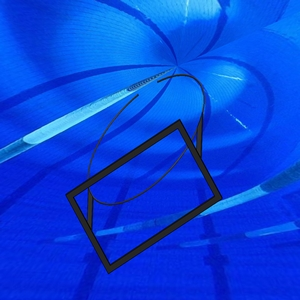circle: (65, 74, 224, 276)
